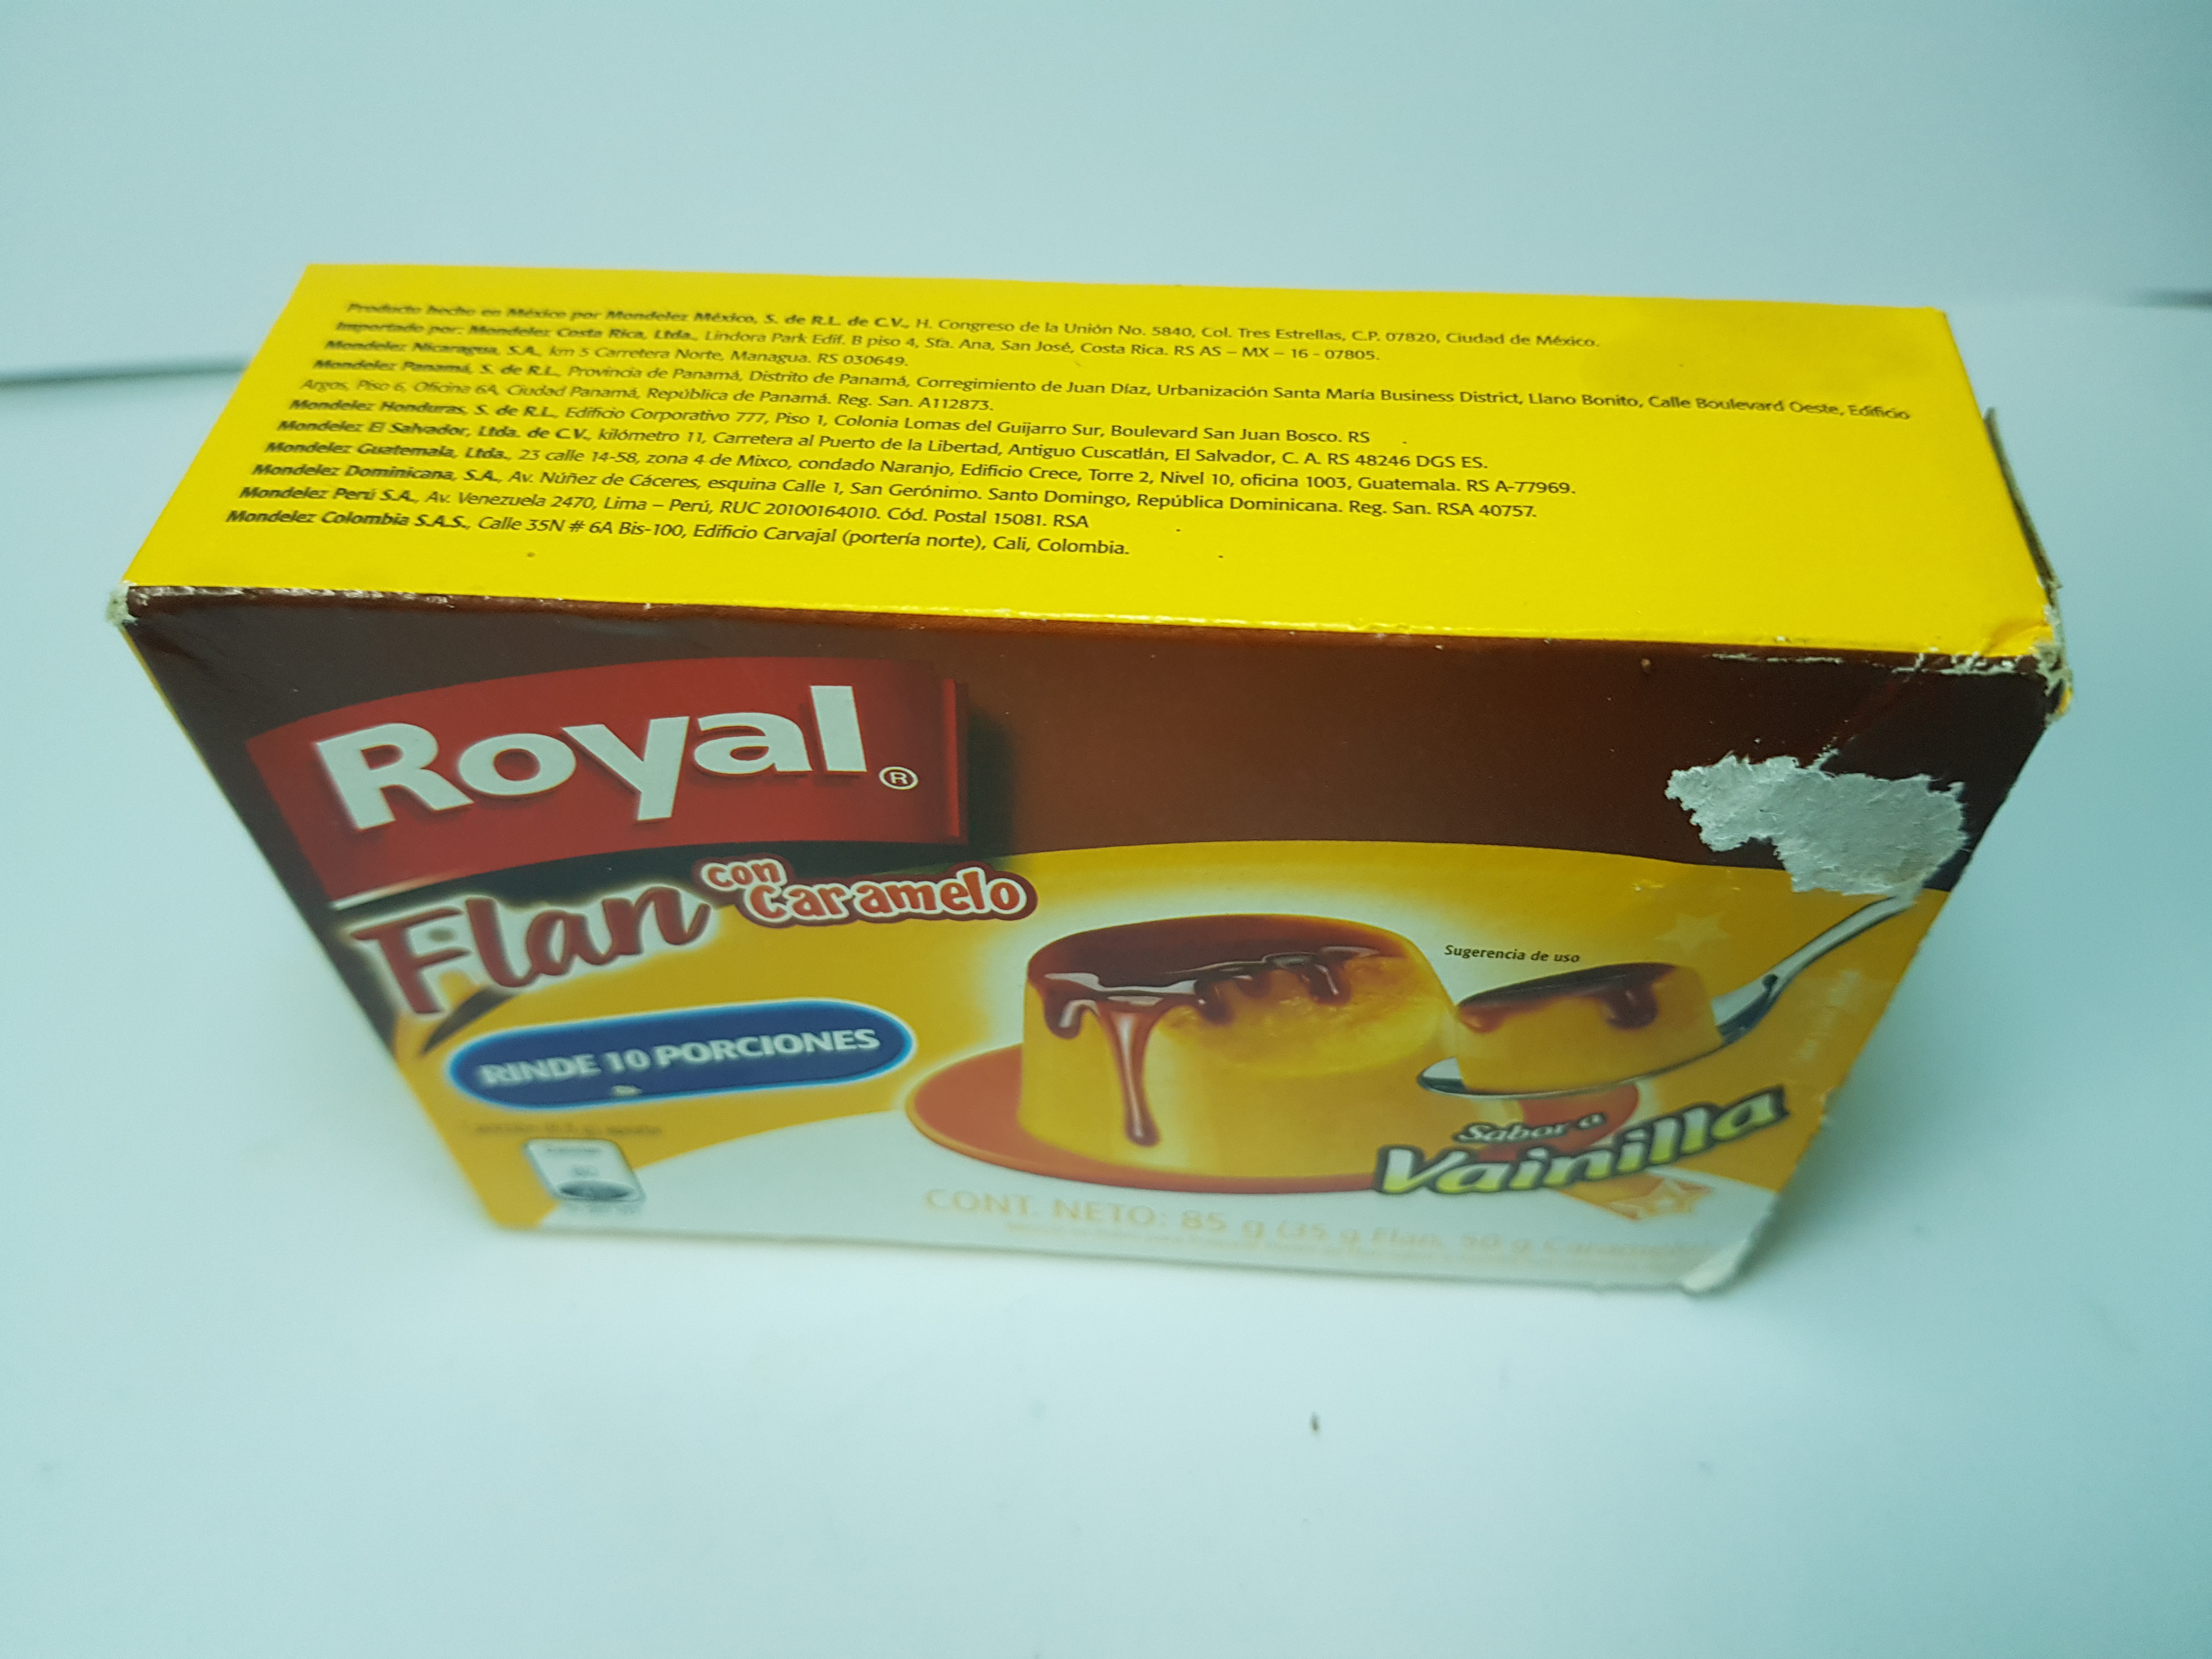flan: (94, 247, 2081, 1328)
